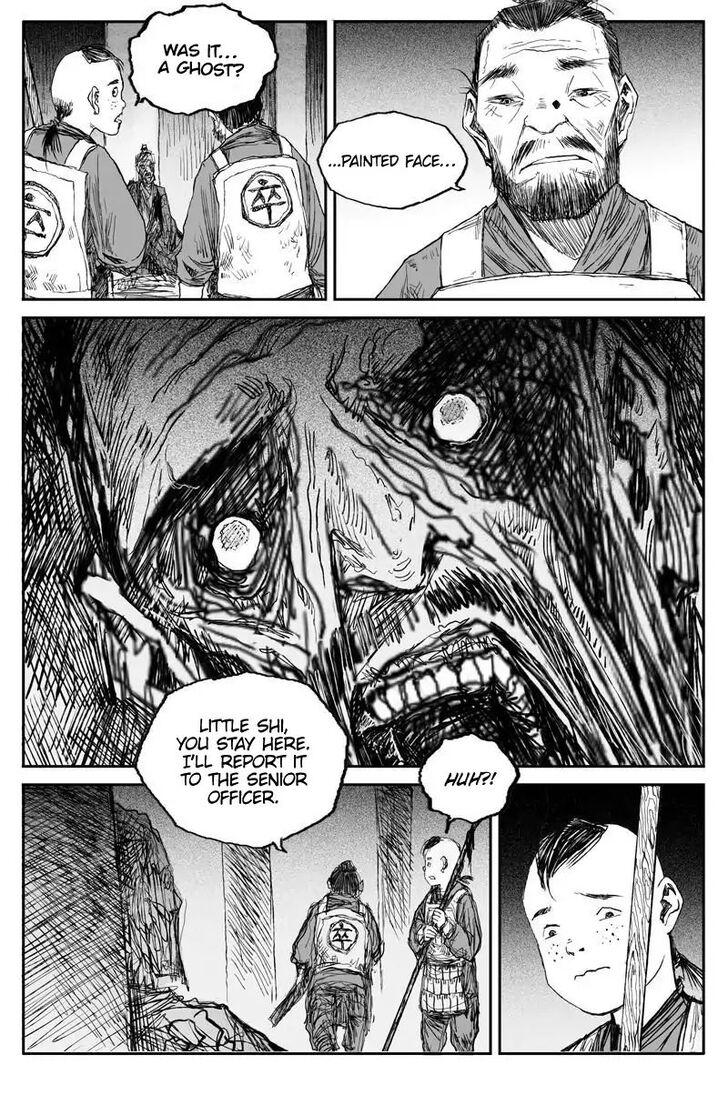Bubble: (133, 670, 350, 852), (127, 2, 280, 118), (315, 109, 469, 211), (417, 732, 520, 827)
